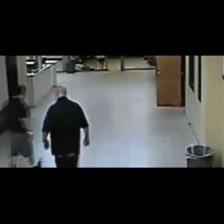person: (42, 87, 89, 167), (3, 85, 33, 167)
